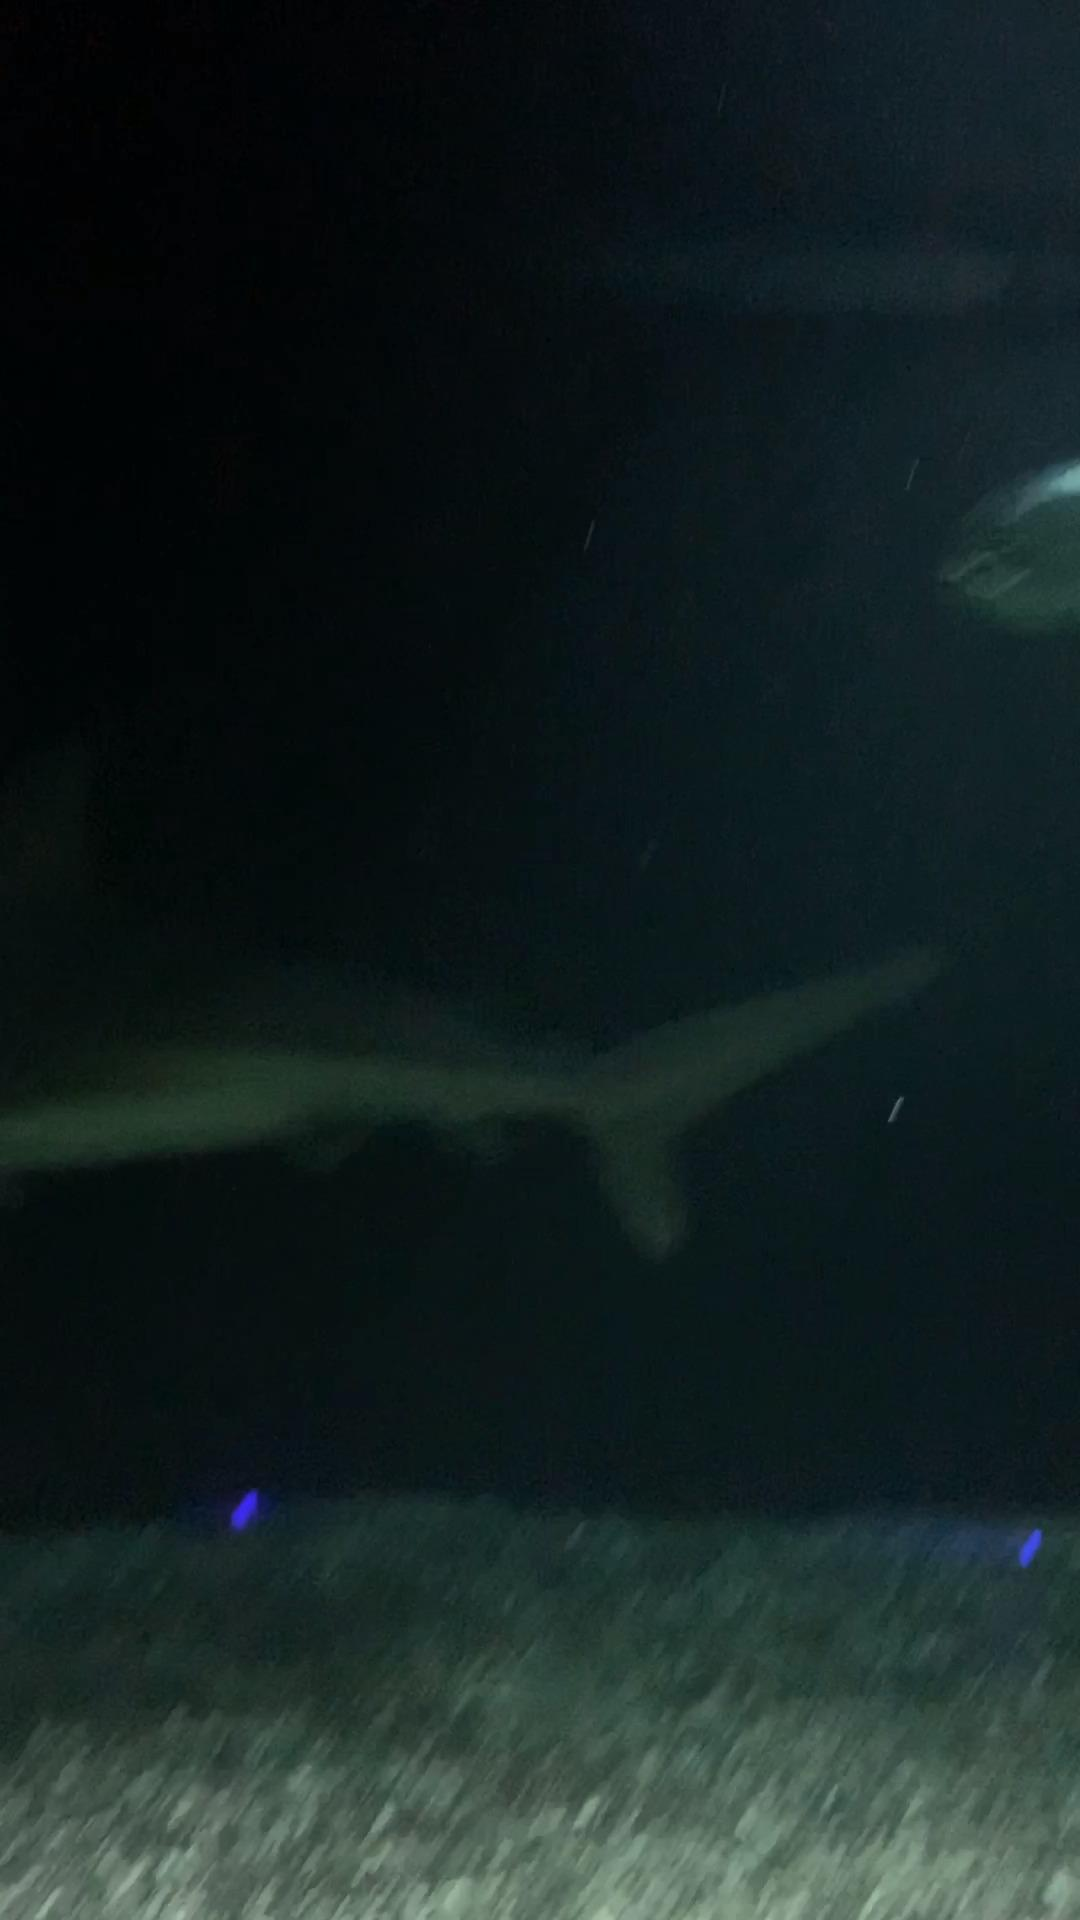fish: (935, 460, 1080, 676)
shark: (0, 926, 981, 1255)
